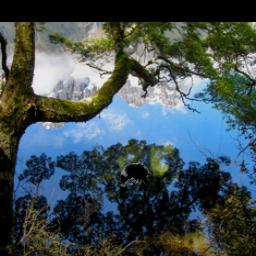Crow: (121, 163, 151, 190)
